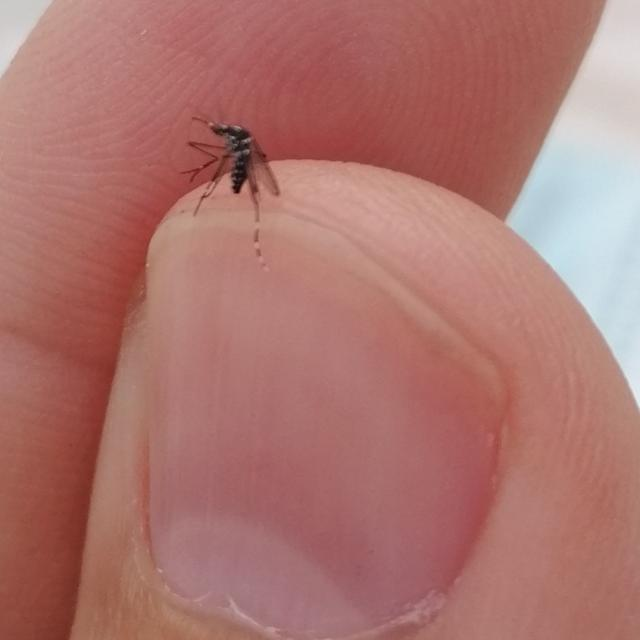albopictus: (164, 107, 288, 277)
